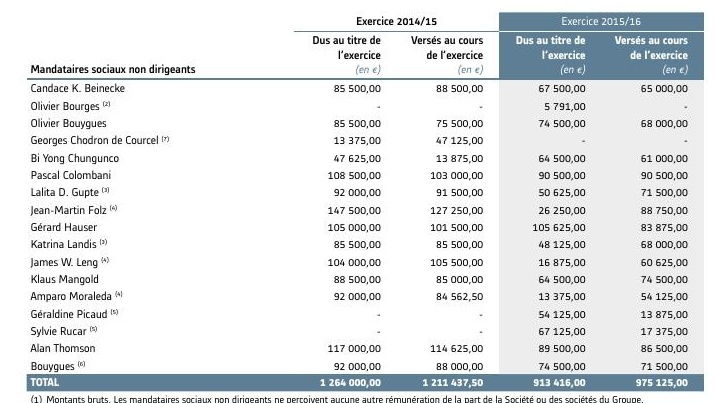table: (0, 0, 715, 403)
